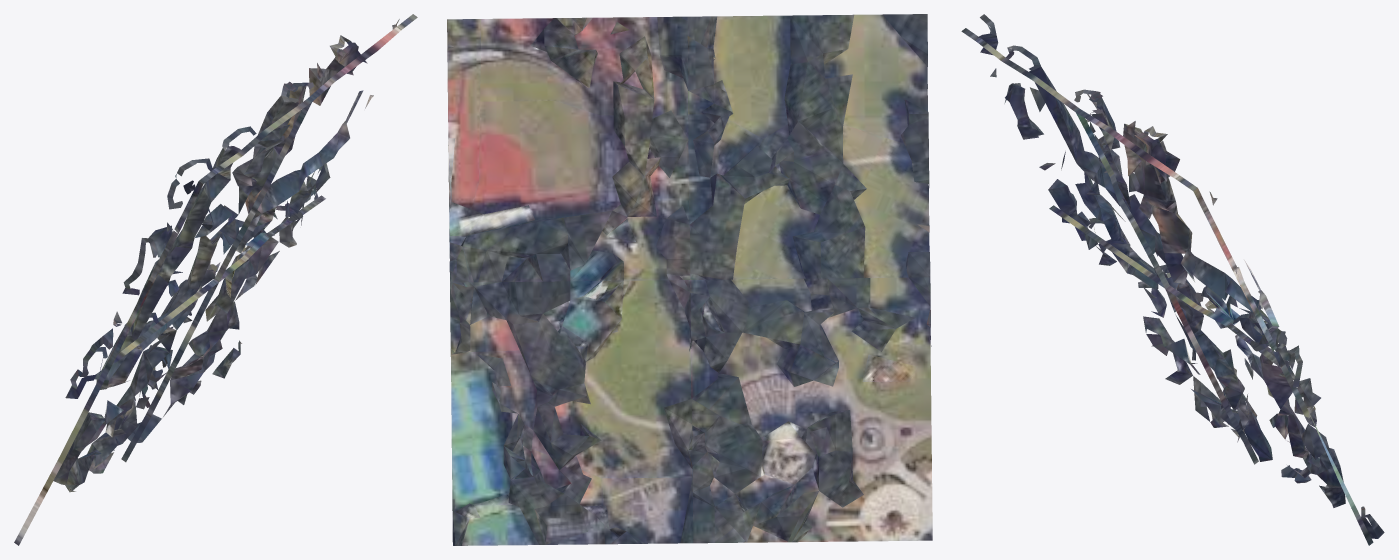
3 renders of one model, left to right at view 1: azimuth 30°, elevation 25°; view 2: azimuth 150°, elevation 25°; view 3: azimuth 270°, elevation 25°, orthographic. The views are drawn at different scales.
Size of the model in its own units: 306 by 285 by 265.
2 materials, 2 textured.
